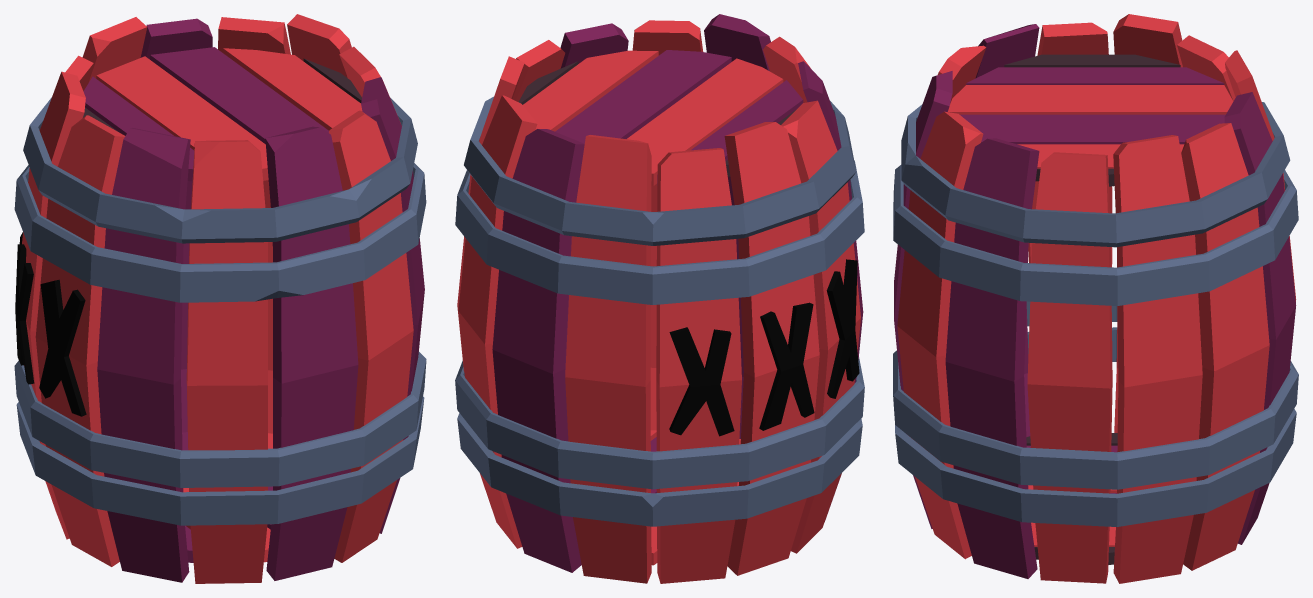
File: Barrel 2_1.fbx
The picture shows the model from 3 angles, left to right: view 1: azimuth 30°, elevation 25°; view 2: azimuth 150°, elevation 25°; view 3: azimuth 270°, elevation 25°; orthographic projection.
Visible parts, largest first — view 1: Barrel 2_1; view 2: Barrel 2_1; view 3: Barrel 2_1.
Boxes of the visible parts, <box> form: Barrel 2_1: <box>14,14,426,583</box>; Barrel 2_1: <box>455,14,864,583</box>; Barrel 2_1: <box>893,14,1298,583</box>.
Size of the model in its own units: 96.06 by 113 by 95.18.
